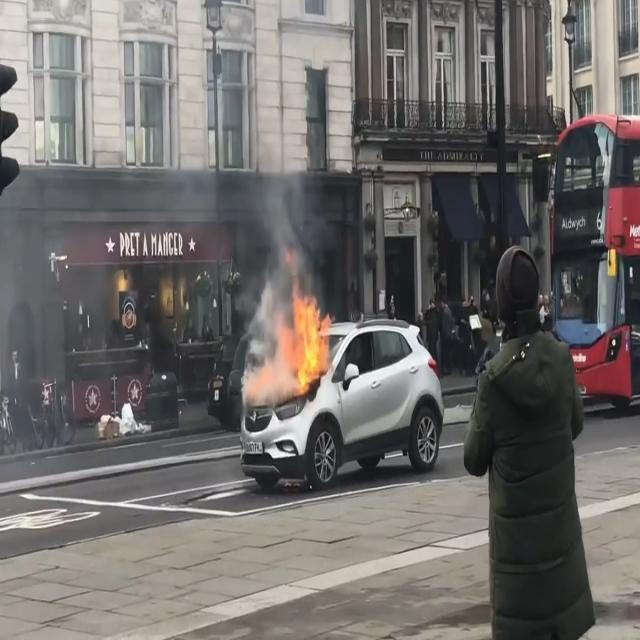fire: (242, 273, 334, 404)
